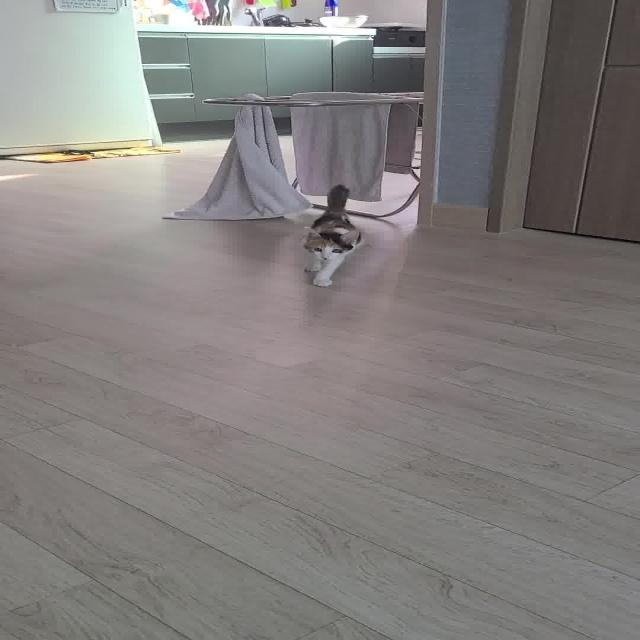cat: (280, 181, 384, 298)
